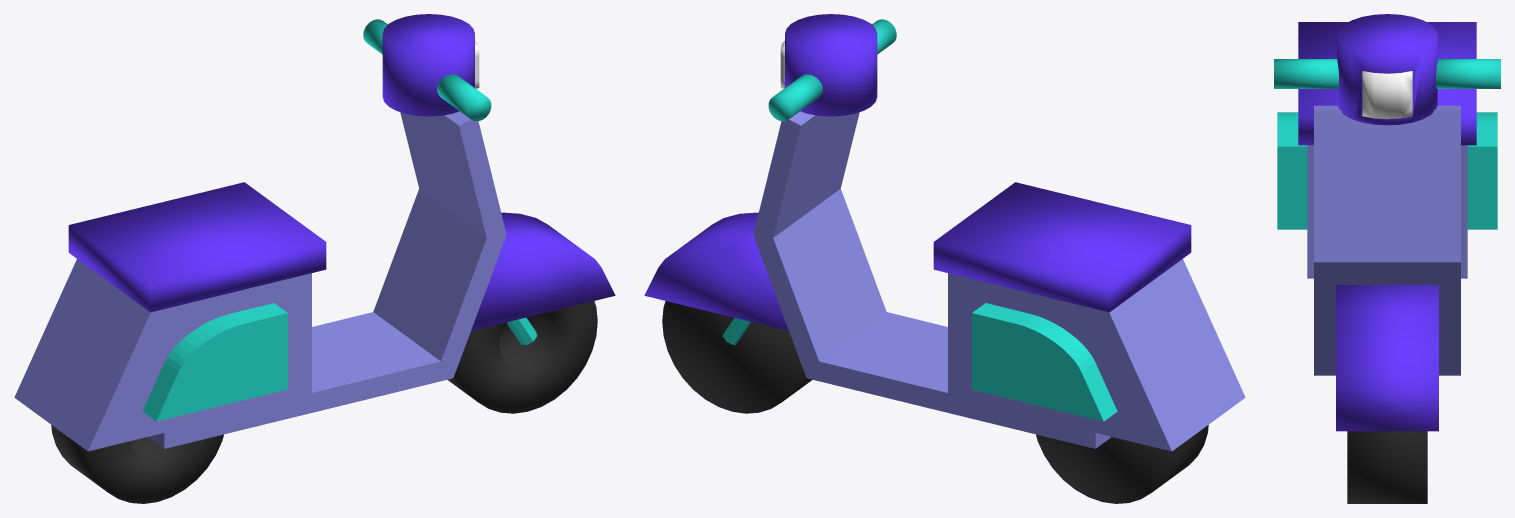
File: 紫色电动车.fbx
3 views of the same model, side by side, from view 1: azimuth 30°, elevation 25°; view 2: azimuth 150°, elevation 25°; view 3: azimuth 270°, elevation 25° (orthographic). The views are drawn at different scales.
Visible parts, largest first — view 1: 黄色电动车; view 2: 黄色电动车; view 3: 黄色电动车.
Part boxes in pixels (bbox=[...]): 黄色电动车: bbox=[14, 14, 615, 503]; 黄色电动车: bbox=[644, 14, 1245, 503]; 黄色电动车: bbox=[1274, 14, 1500, 503].
Bounding box in the file's own units: 164 × 111 × 54.83.
